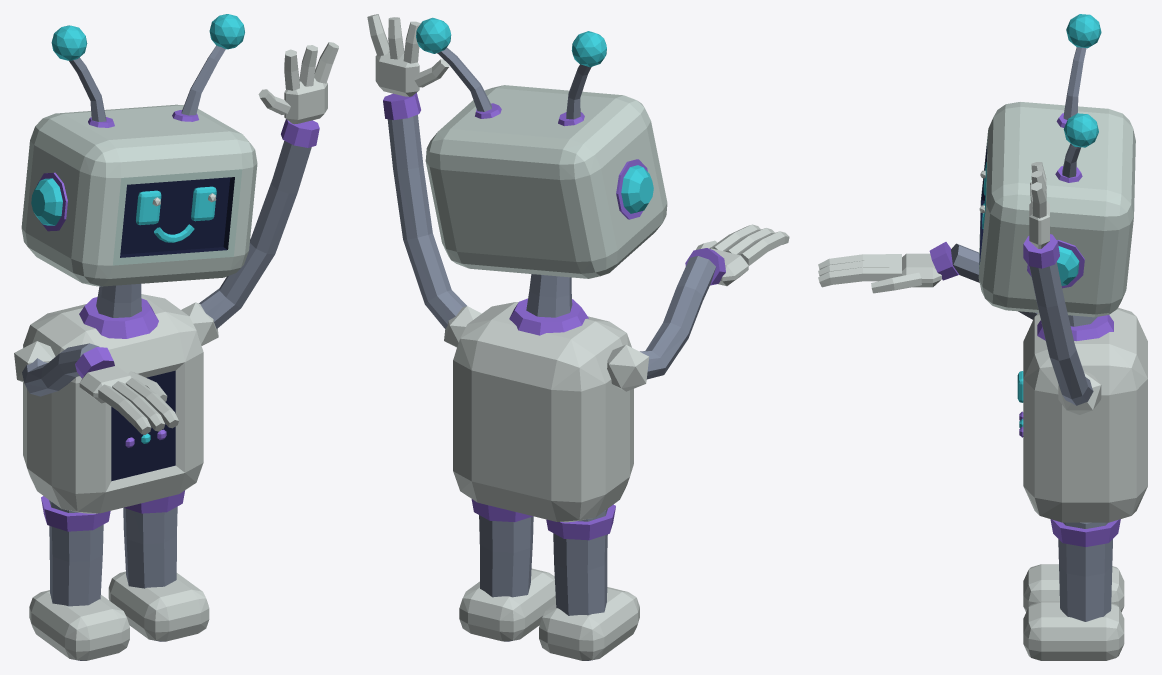
The model's file is city-robot-peek-2.glb.
3 views of the same model, side by side, from view 1: azimuth 30°, elevation 25°; view 2: azimuth 150°, elevation 25°; view 3: azimuth 270°, elevation 25° (orthographic). The views are drawn at different scales.
Parts seen in each view (by area): view 1: CityRobot2; view 2: CityRobot2; view 3: CityRobot2.
Part boxes in pixels (box(x1,y1,x2,y2)): CityRobot2: box(14, 14, 338, 660); CityRobot2: box(367, 14, 789, 660); CityRobot2: box(818, 14, 1147, 660).
Bounding box in the file's own units: 1.18 × 2.22 × 1.11.
